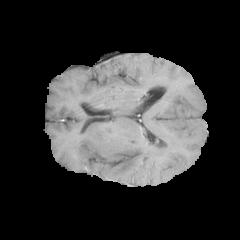glioma: (82, 135, 175, 179)
